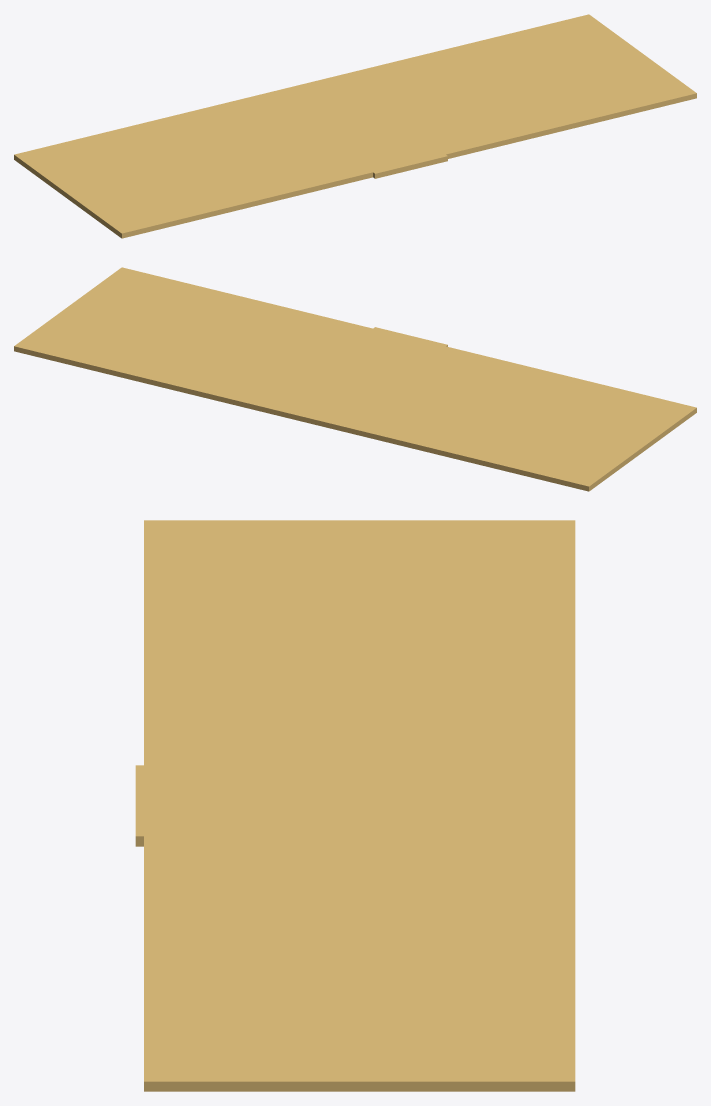
File: Joglo_part_9.fbx
The picture shows the model from 3 angles, top to bottom: view 1: azimuth 30°, elevation 25°; view 2: azimuth 150°, elevation 25°; view 3: azimuth 270°, elevation 25°; orthographic projection. The views are drawn at different scales.
Visible parts, largest first — view 1: Mesh108_Paint___Golden_Ochre_0.001; view 2: Mesh108_Paint___Golden_Ochre_0.001; view 3: Mesh108_Paint___Golden_Ochre_0.001.
Boxes of the visible parts, left/top/right/bottom form: Mesh108_Paint___Golden_Ochre_0.001: left=14, top=14, right=696, bottom=238; Mesh108_Paint___Golden_Ochre_0.001: left=14, top=267, right=696, bottom=491; Mesh108_Paint___Golden_Ochre_0.001: left=135, top=520, right=575, bottom=1091.
Bounding box in the file's own units: 467 × 3.94 × 155.
